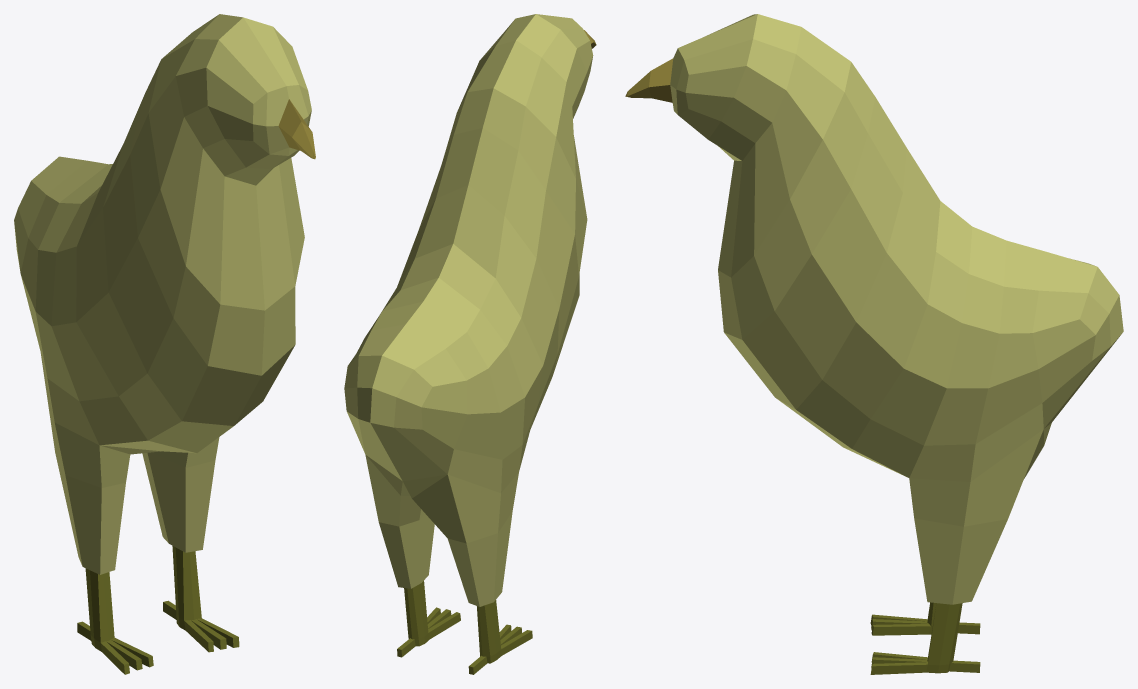
File: 22smolchikenFinal.fbx
The picture shows the model from 3 angles, left to right: view 1: azimuth 30°, elevation 25°; view 2: azimuth 150°, elevation 25°; view 3: azimuth 270°, elevation 25°; orthographic projection. The views are drawn at different scales.
Parts seen in each view (by area): view 1: 22smolchikenFinal; view 2: 22smolchikenFinal; view 3: 22smolchikenFinal.
Part boxes in pixels (<box>): 22smolchikenFinal: <box>14,14,315,674</box>; 22smolchikenFinal: <box>344,14,596,674</box>; 22smolchikenFinal: <box>625,14,1123,674</box>.
Bounding box in the file's own units: 3.7 × 13.66 × 9.67.
